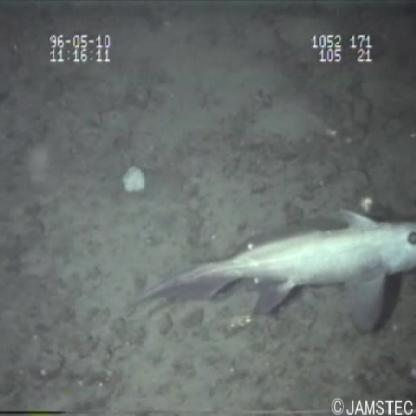Bio: (124, 202, 416, 339)
